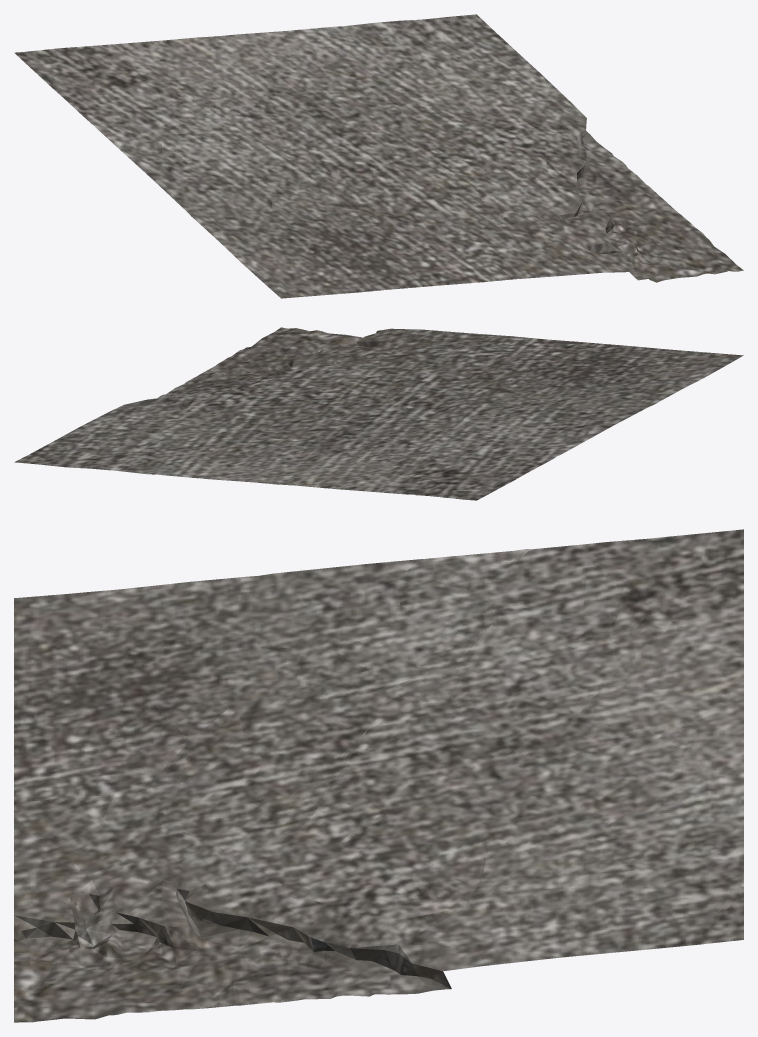
The picture shows the model from 3 angles, top to bottom: view 1: azimuth 30°, elevation 25°; view 2: azimuth 150°, elevation 25°; view 3: azimuth 270°, elevation 25°; orthographic projection. The views are drawn at different scales.
Size of the model in its own units: 0.8374 by 0.2338 by 0.8374.
3 materials, 3 textured.
